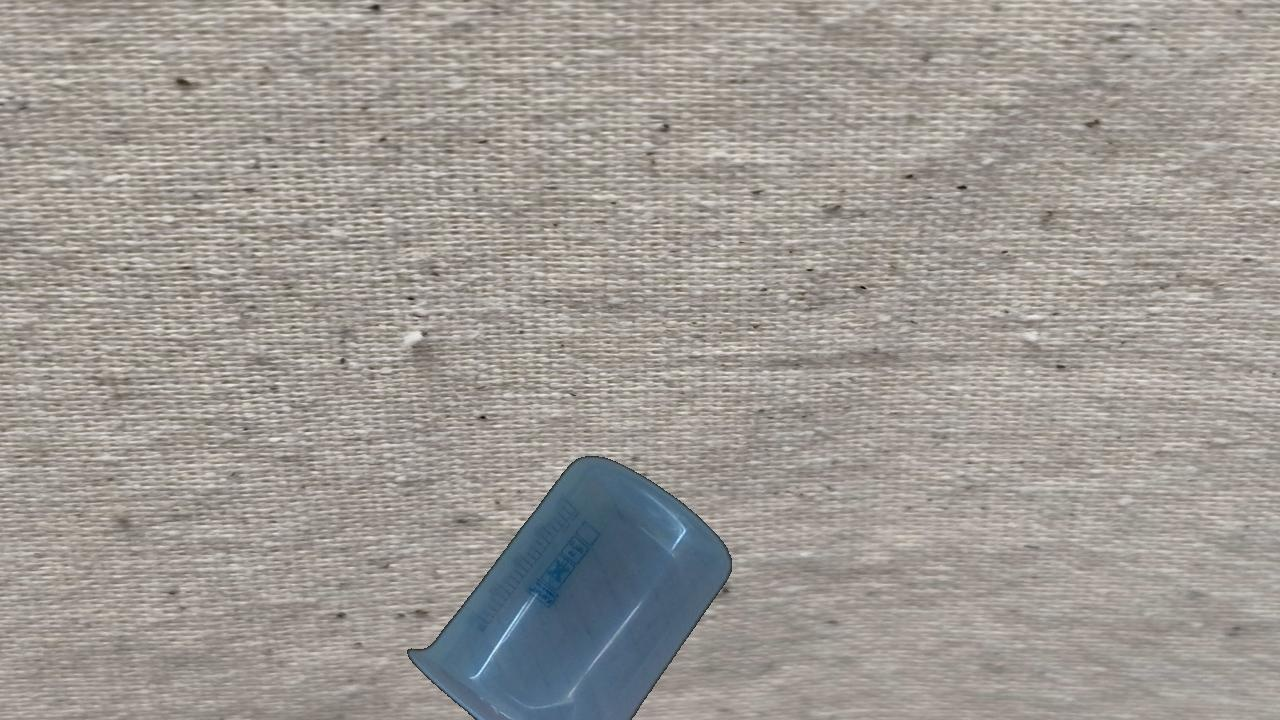becker: (406, 453, 734, 716)
